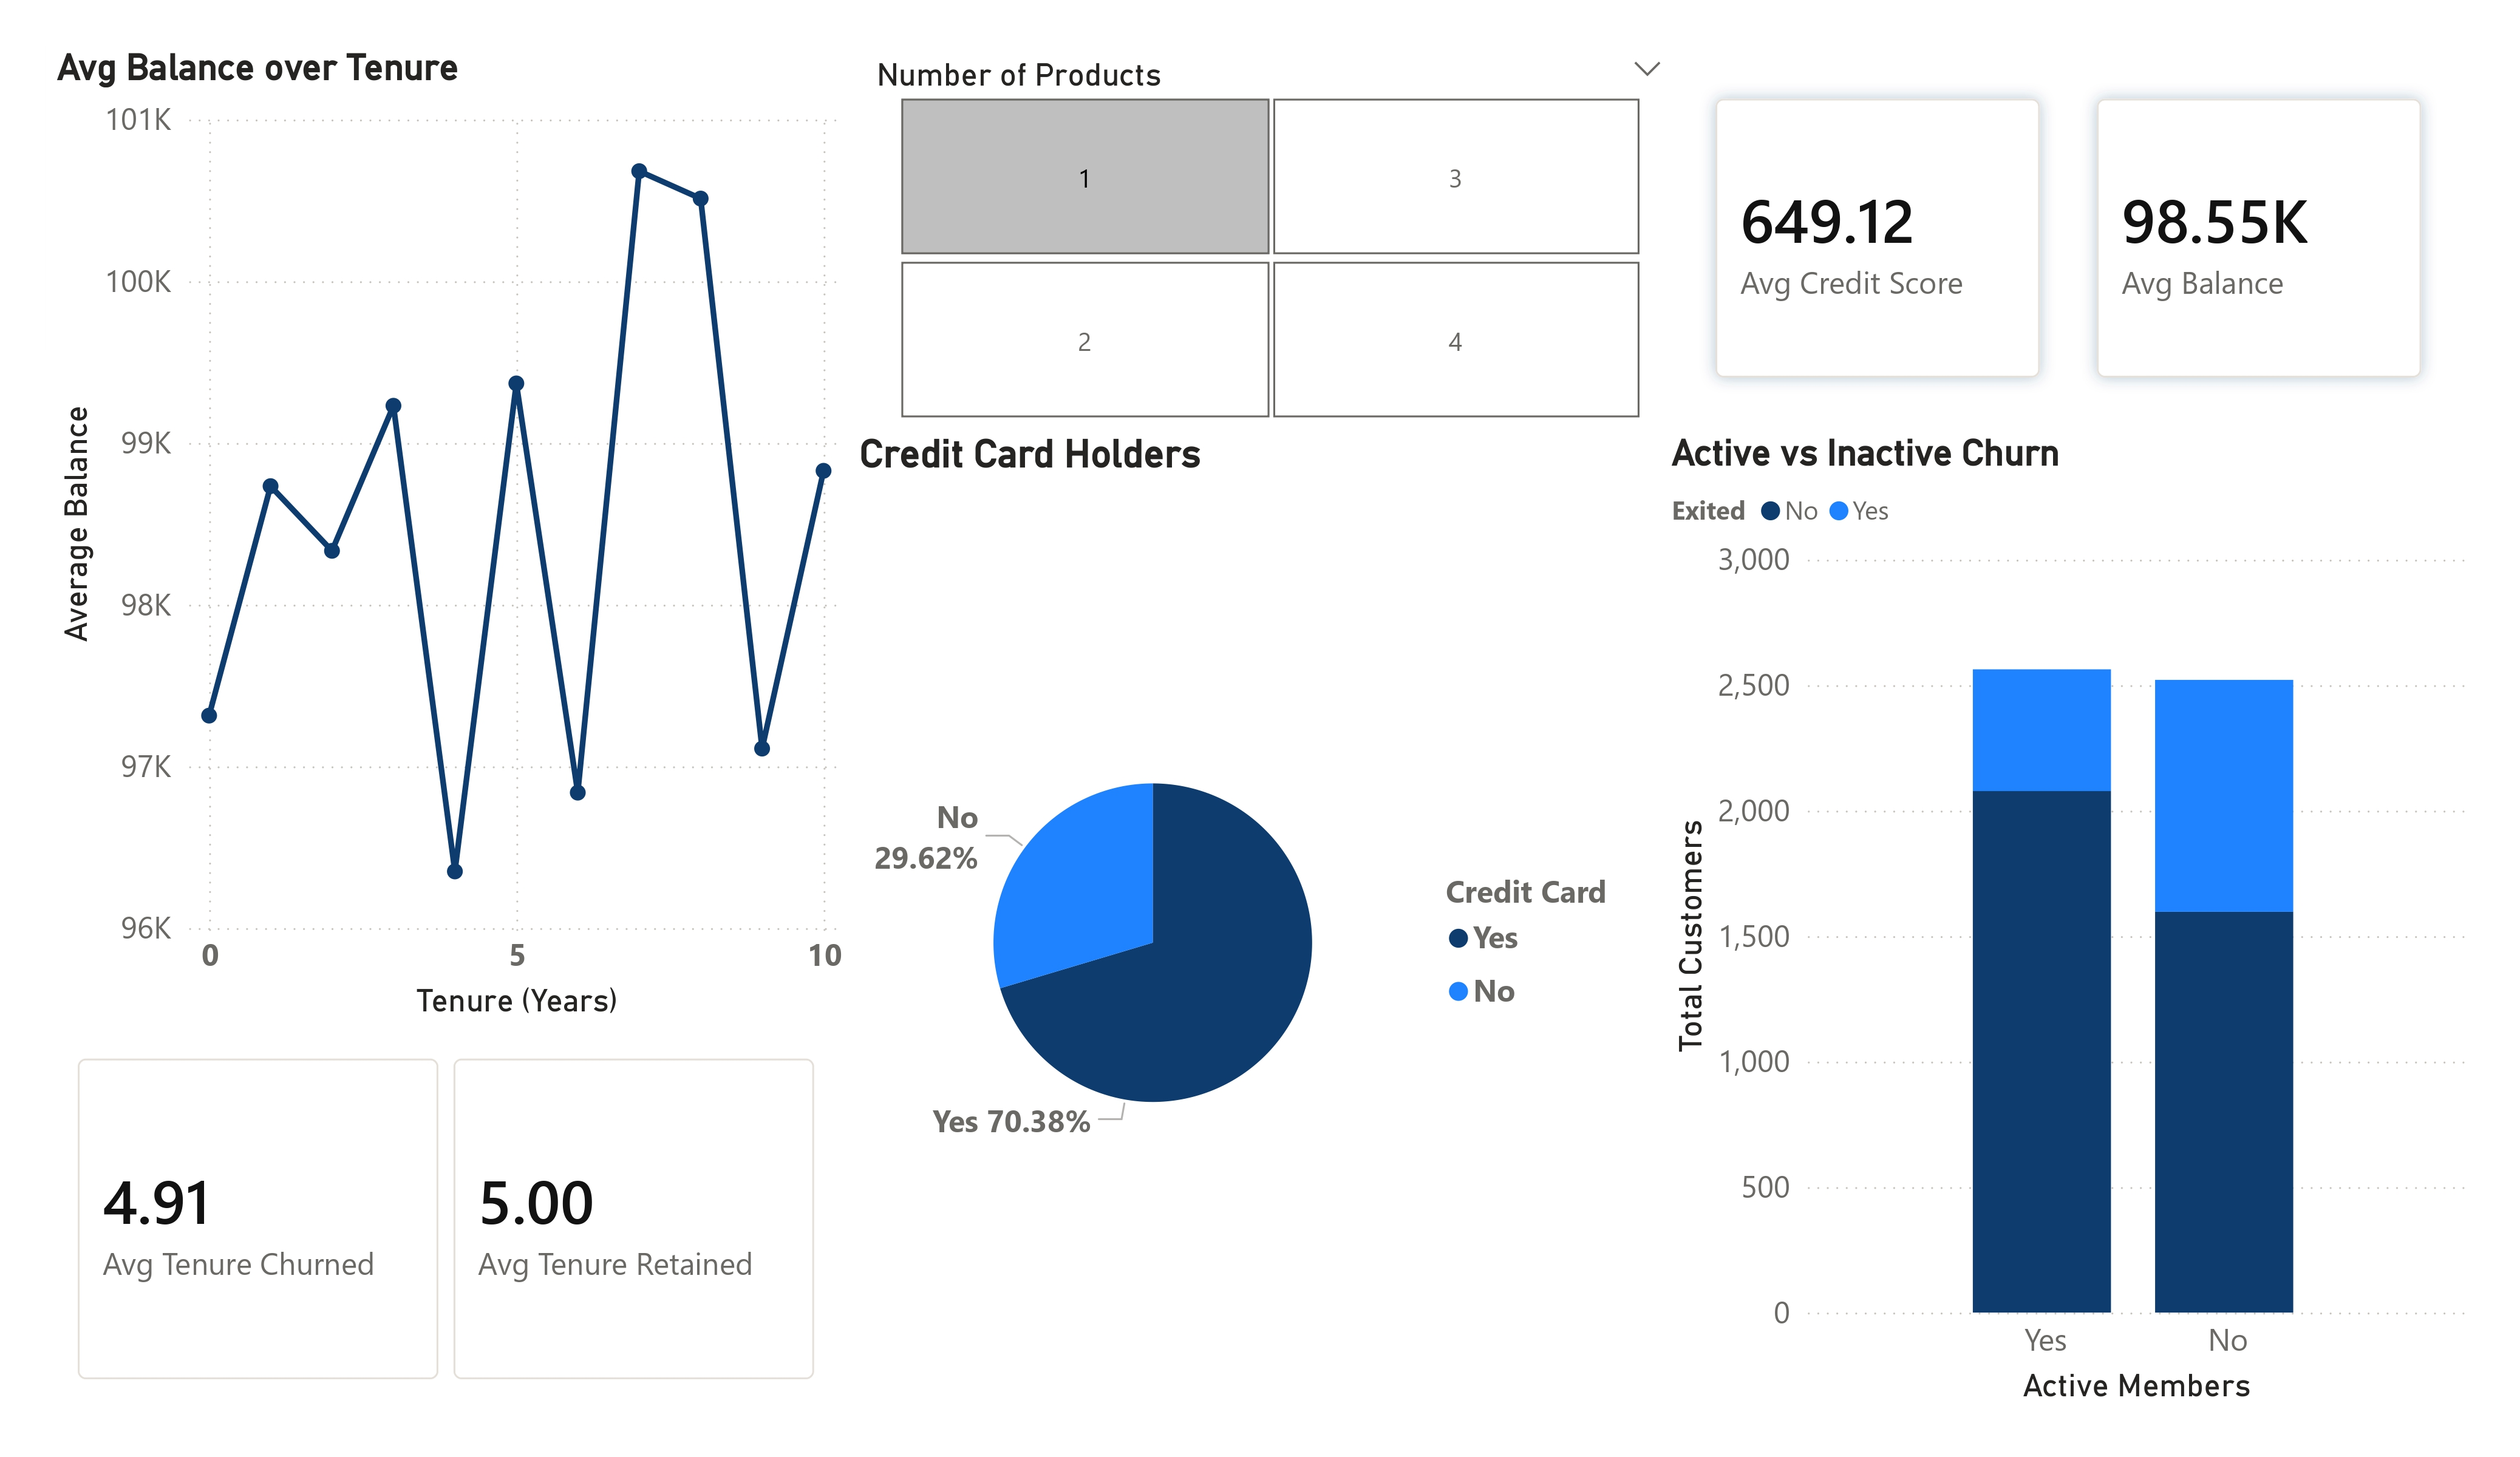

The page's visual inventory and layout, read from the dashboard file:
{"tool":"powerbi","page":{"name":"Churn Deep Dive","canvas":[1280,720],"ordinal":1},"visuals":[{"type":"lineChart","title":"Avg Balance over Tenure","fields":{"Category":["bank_crcard.tenure"],"Y":["Avg(bank_crcard.balance)"]},"box":[1.4,0,424,517.3],"z":0},{"type":"cardVisual","fields":{"Data":["bank_crcard.Avg Credit Score","bank_crcard.Avg Balance"]},"box":[852.1,0,428.1,203.1],"z":1000},{"type":"columnChart","title":"Active vs Inactive Churn","fields":{"Category":["bank_crcard.isactivemember"],"Y":["CountNonNull(bank_crcard.customerid)"],"Series":["bank_crcard.exited"]},"box":[852.1,203.1,428.1,517.3],"z":2000},{"type":"pieChart","title":"Credit Card Holders","fields":{"Category":["bank_crcard.hascrcard"],"Y":["Count(bank_crcard.customerid)"]},"box":[424,203.1,428.1,517.3],"z":3000},{"type":"cardVisual","fields":{"Data":["bank_crcard.Avg Tenure Churned","bank_crcard.Avg Tenure Retained"]},"box":[0,517.3,422.6,203.1],"z":3001},{"type":"slicer","fields":{"Values":["bank_crcard.numofproducts"]},"box":[425.4,0,439.1,203.1],"z":3002}]}

Visuals, with their boxes on the page's 1280x720 design canvas (x1, y1, x2, y2). These are canvas units, not pixel positions in the 2520x1457 screenshot, which may show the page scaled, cropped or inside an application window:
"Avg Balance over Tenure" lineChart: <region>1, 0, 425, 517</region>
cardVisual - bank_crcard.Avg Credit Score x bank_crcard.Avg Balance: <region>852, 0, 1280, 203</region>
"Active vs Inactive Churn" columnChart: <region>852, 203, 1280, 720</region>
"Credit Card Holders" pieChart: <region>424, 203, 852, 720</region>
cardVisual - bank_crcard.Avg Tenure Churned x bank_crcard.Avg Tenure Retained: <region>0, 517, 423, 720</region>
slicer - bank_crcard.numofproducts: <region>425, 0, 864, 203</region>
